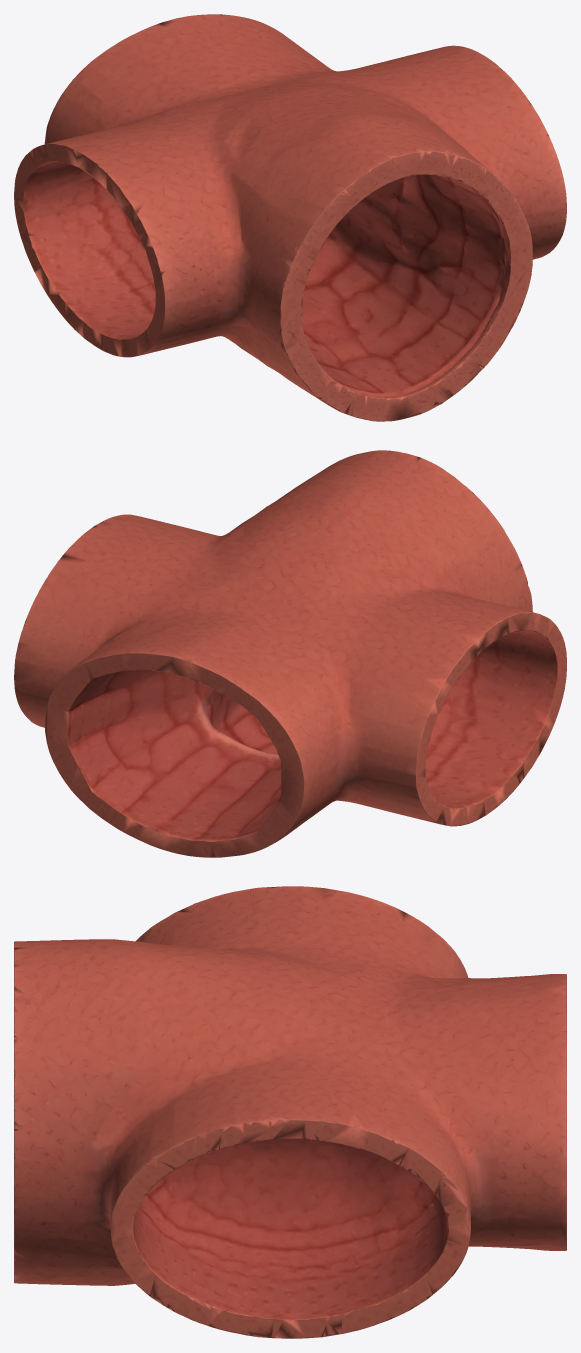
The model's file is Env_EsophagusTunnel.glb.
3 renders of one model, top to bottom at view 1: azimuth 30°, elevation 25°; view 2: azimuth 150°, elevation 25°; view 3: azimuth 270°, elevation 25°, orthographic. The views are drawn at different scales.
Size of the model in its own units: 1.9 by 1.21 by 1.9.
1 material, 1 textured.
